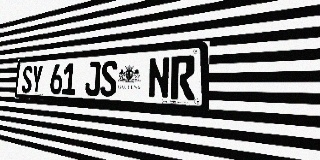1: (62, 63, 76, 95)
6: (50, 64, 63, 95)
J: (85, 61, 101, 96)
N: (148, 57, 170, 99)
R: (170, 55, 195, 100)
S: (100, 60, 118, 97), (22, 66, 32, 93)
Y: (31, 65, 43, 94)
